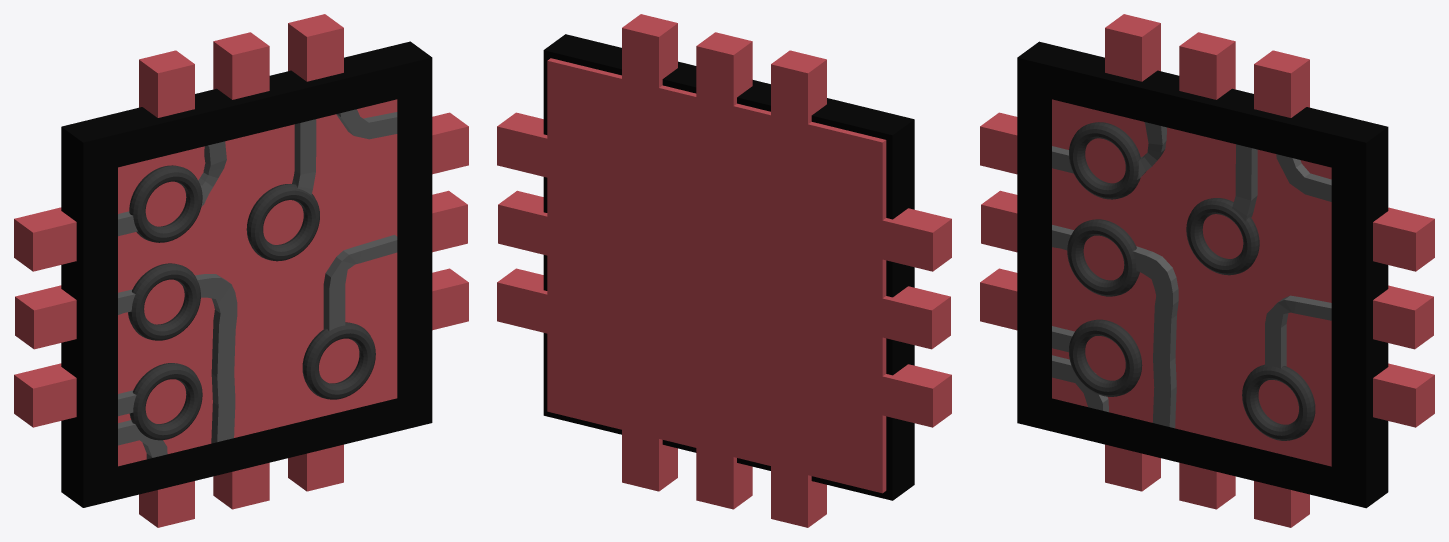
File: chip2.gltf
3 renders of one model, left to right at view 1: azimuth 30°, elevation 25°; view 2: azimuth 150°, elevation 25°; view 3: azimuth 330°, elevation 25°, orthographic.
Visible parts, largest first — view 1: Cube, Cube2, Torus, Cube1; view 2: Cube, Cube2; view 3: Cube, Cube2, Torus, Cube1.
Boxes of the visible parts, x1,y1,x2,y2 form: Cube: (14, 14, 468, 527); Cube2: (61, 41, 432, 507); Torus: (128, 165, 375, 440); Cube1: (118, 109, 397, 459); Cube: (497, 14, 951, 527); Cube2: (543, 34, 914, 500); Cube: (980, 14, 1434, 527); Cube2: (1017, 41, 1388, 508); Torus: (1067, 122, 1315, 440); Cube1: (1052, 122, 1331, 428).
Bounding box in the file's own units: 2.6 × 2.59 × 0.2773.
